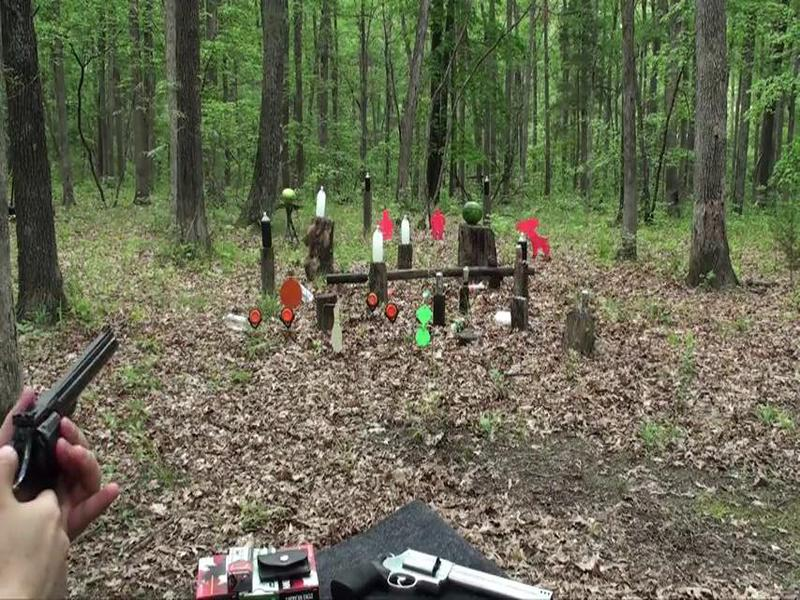Revolver: (1, 309, 129, 534)
